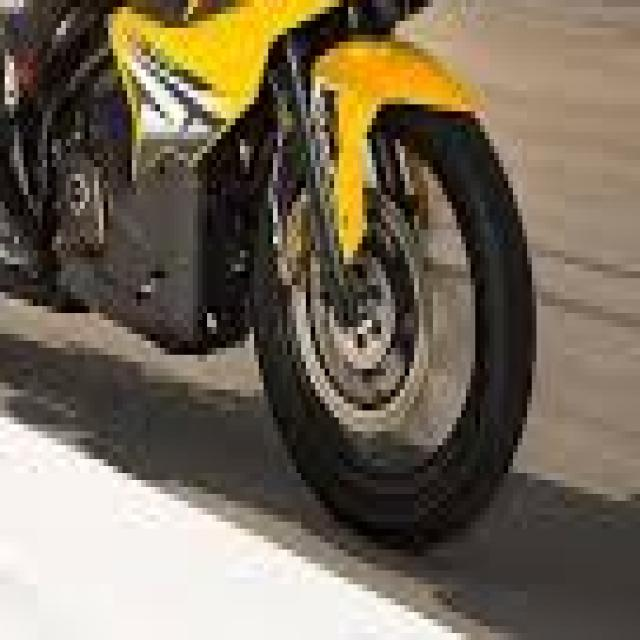bike: (0, 0, 546, 550)
